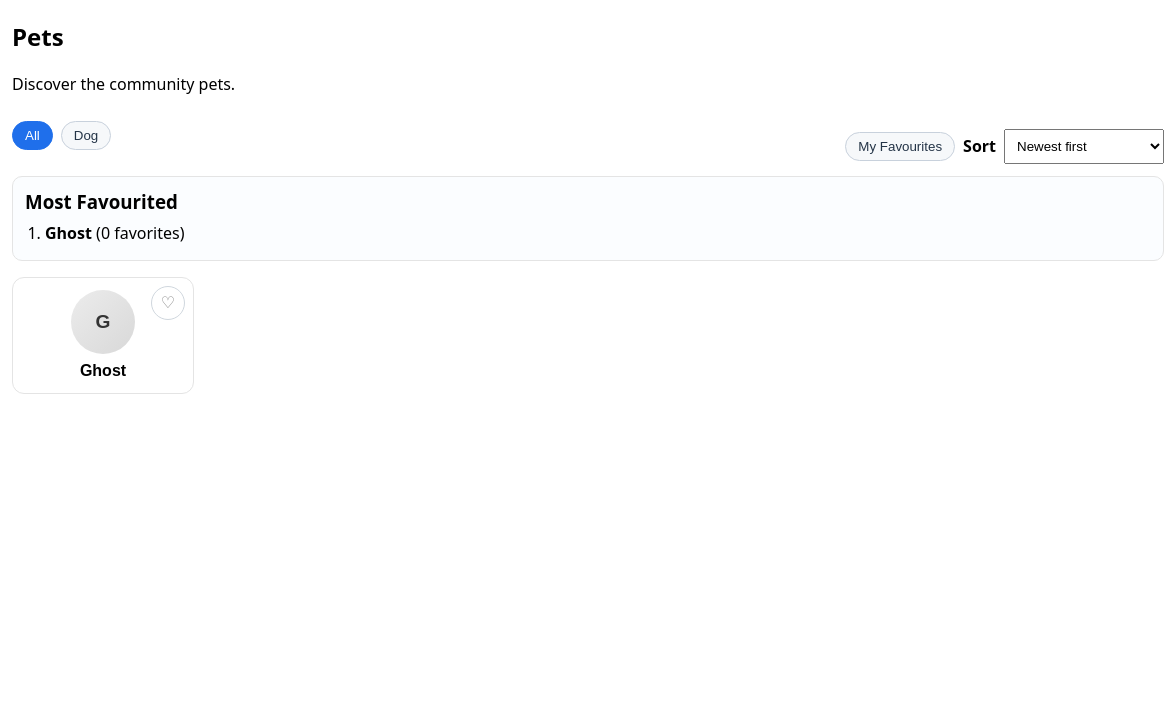
Test case: Home page › shows detail when clicked pet has no id
Click the button "G Ghost" at (103, 335), box x1=25 y1=290 x2=181 y2=380
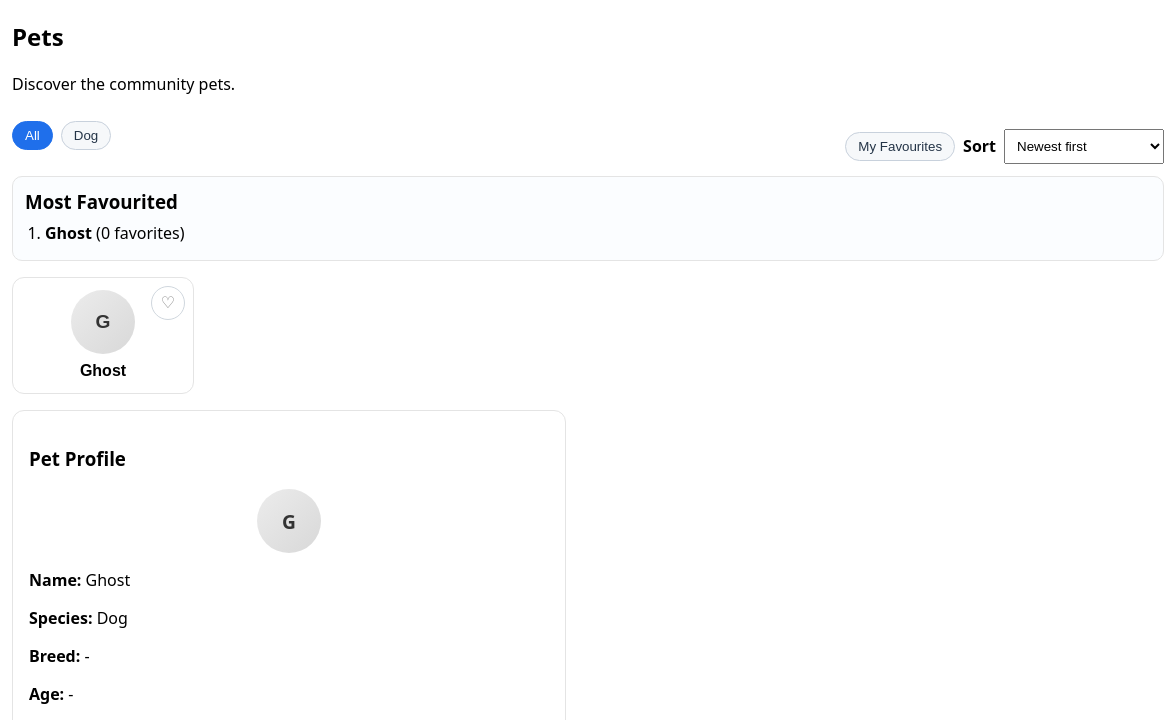
Result: the text "Pet Profile" is shown at x1=29 y1=446 x2=126 y2=470
Result: the text "Ghost" is shown at x1=86 y1=569 x2=130 y2=591
